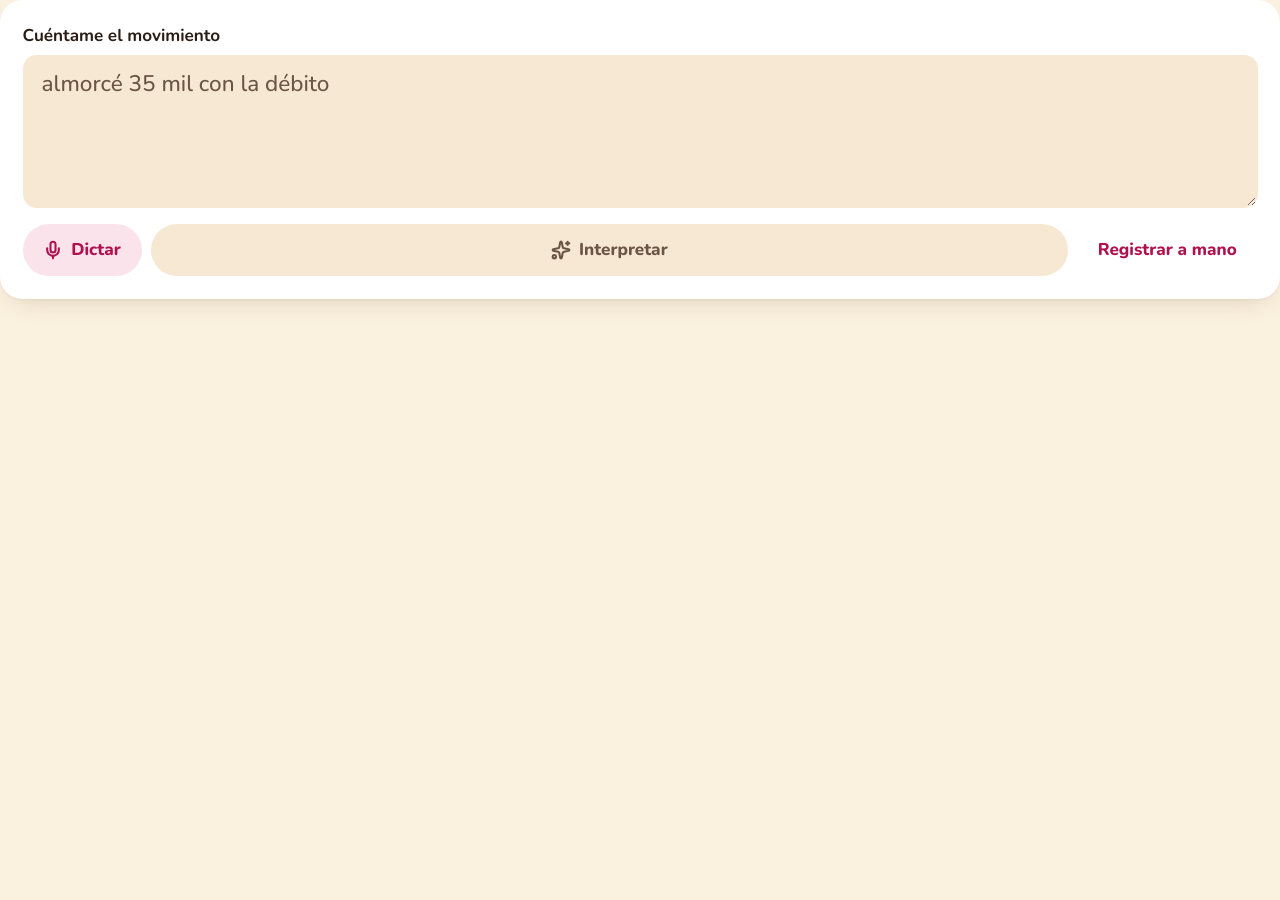
Test case: RegisterFlow › falls back to an empty form and keeps the text when the AI is unavailable
This screenshot has width=1280, height=900.
In the text box labelled "Cuéntame el movimiento": (640, 131) [22, 55, 1258, 208], type "almorcé 35 mil"
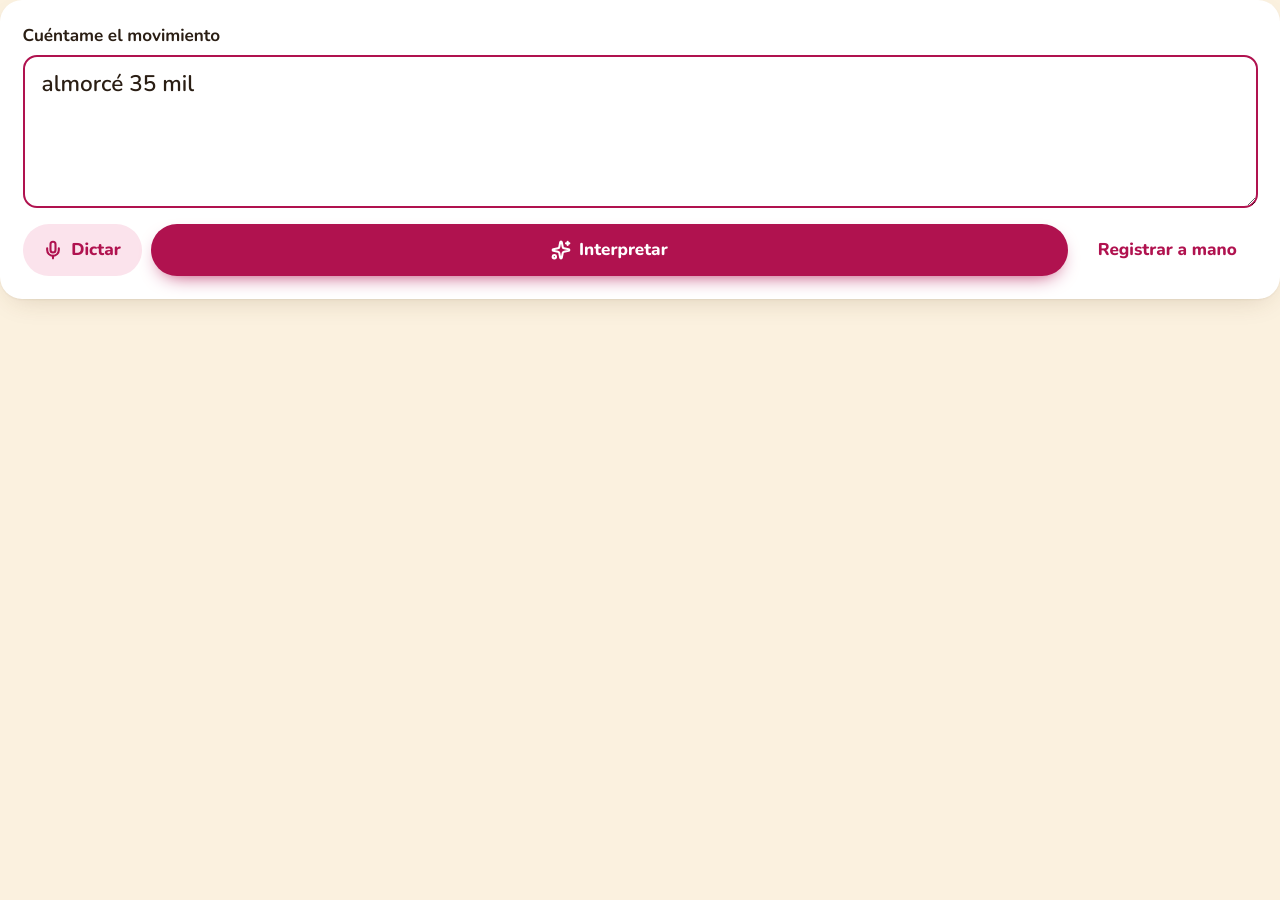
Click the button "Interpretar": (609, 250) [150, 224, 1068, 276]
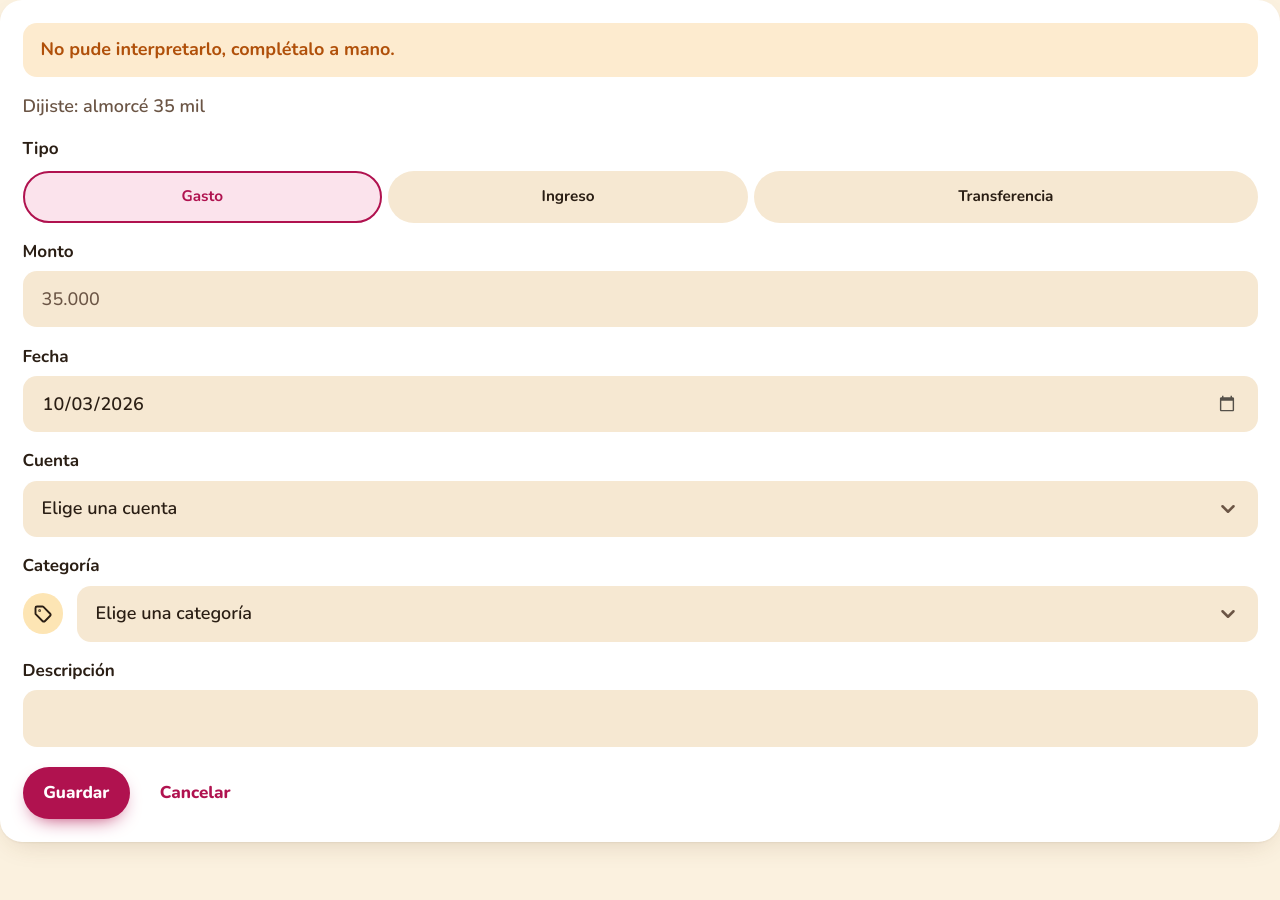
Expected: the text "No pude interpretarlo, complétalo a mano." is shown, [22, 22, 1258, 76]
Expected: the text "Dijiste: almorcé 35 mil" is shown, [22, 94, 205, 118]
Expected: the field labelled "Monto" is empty, [22, 271, 1258, 328]
